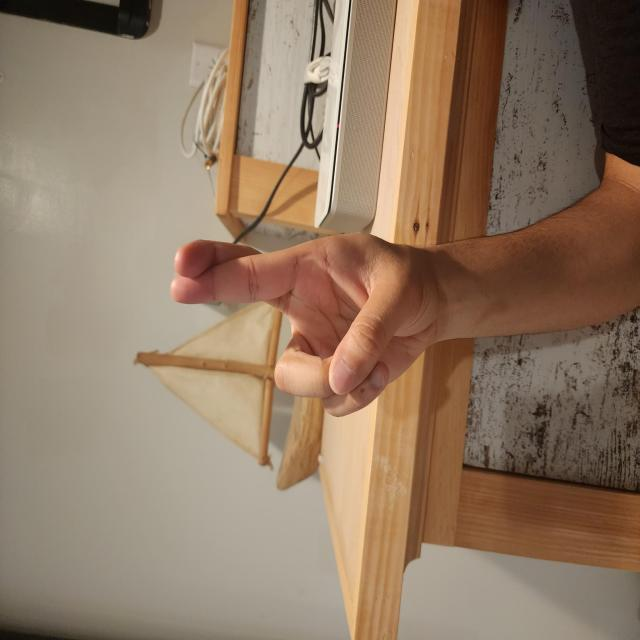R: (165, 223, 309, 596)
